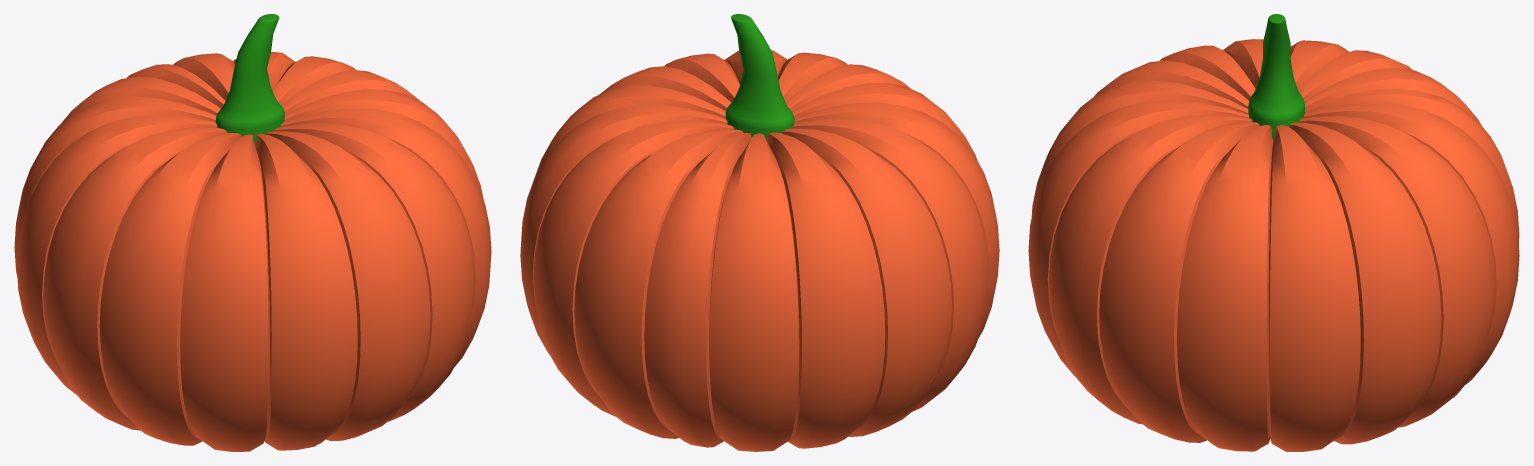
File: Pumpkin.glb
3 views of the same model, side by side, from view 1: azimuth 30°, elevation 25°; view 2: azimuth 150°, elevation 25°; view 3: azimuth 270°, elevation 25° (orthographic). The views are drawn at different scales.
Parts seen in each view (by area): view 1: Sphere.001, Cylinder; view 2: Sphere.001, Cylinder; view 3: Sphere.001, Cylinder.
Boxes of the visible parts, x1=… form: Sphere.001: x1=14, y1=51, x2=491, y2=451; Cylinder: x1=215, y1=14, x2=284, y2=146; Sphere.001: x1=520, y1=50, x2=999, y2=451; Cylinder: x1=725, y1=14, x2=794, y2=141; Sphere.001: x1=1028, y1=39, x2=1519, y2=451; Cylinder: x1=1248, y1=14, x2=1304, y2=140.
Size of the model in its own units: 2.04 by 1.76 by 2.04.
